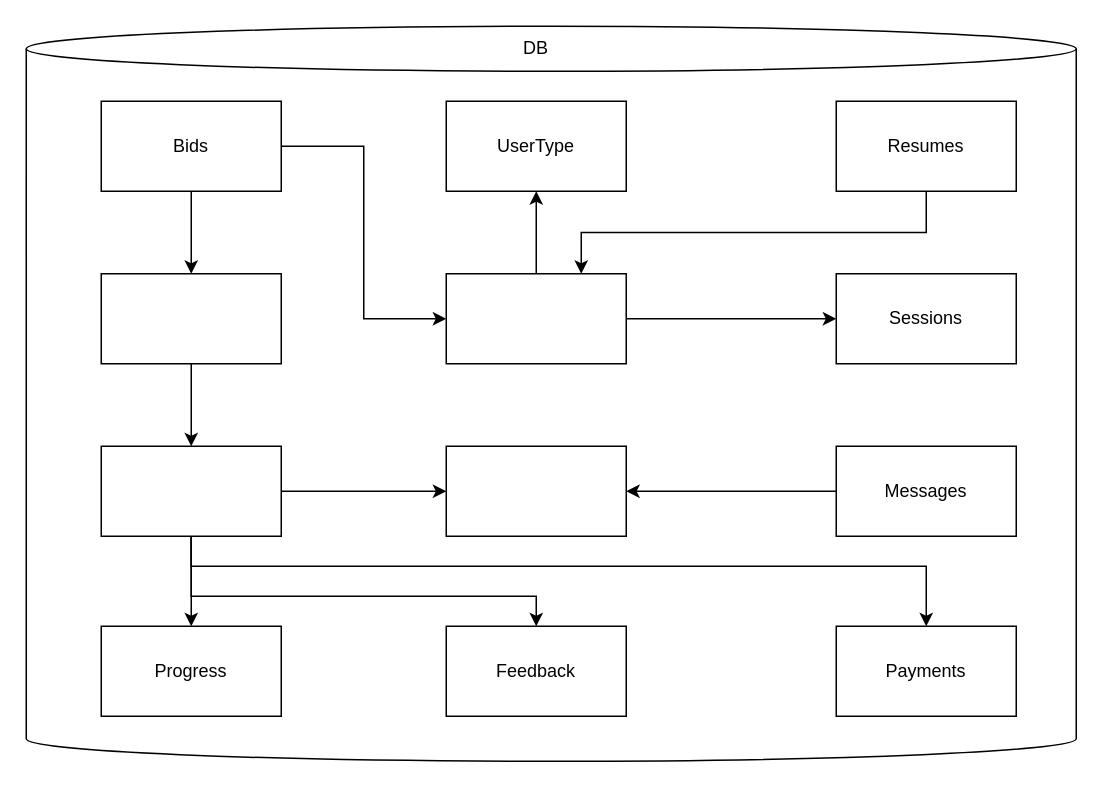
The diagram is 1103 pixels wide and 788 high, and some of its shapes have lost their labels. The shapes that lost their labels are listed below. From the top down, each one's box as (x1, y1, x2, y2) in pixels, then its label:
(100, 272, 281, 364): Contracts
(445, 272, 626, 364): Users
(100, 445, 281, 536): Projects
(445, 445, 626, 536): ChatRooms
